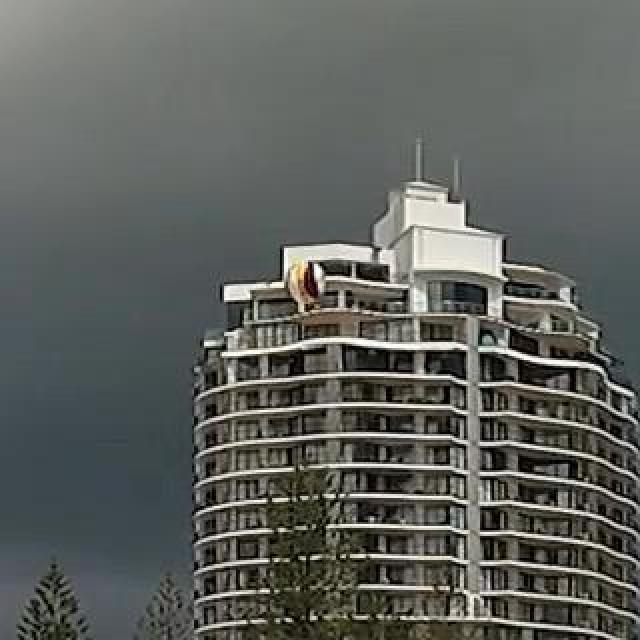volleyball: (286, 260, 324, 300)
